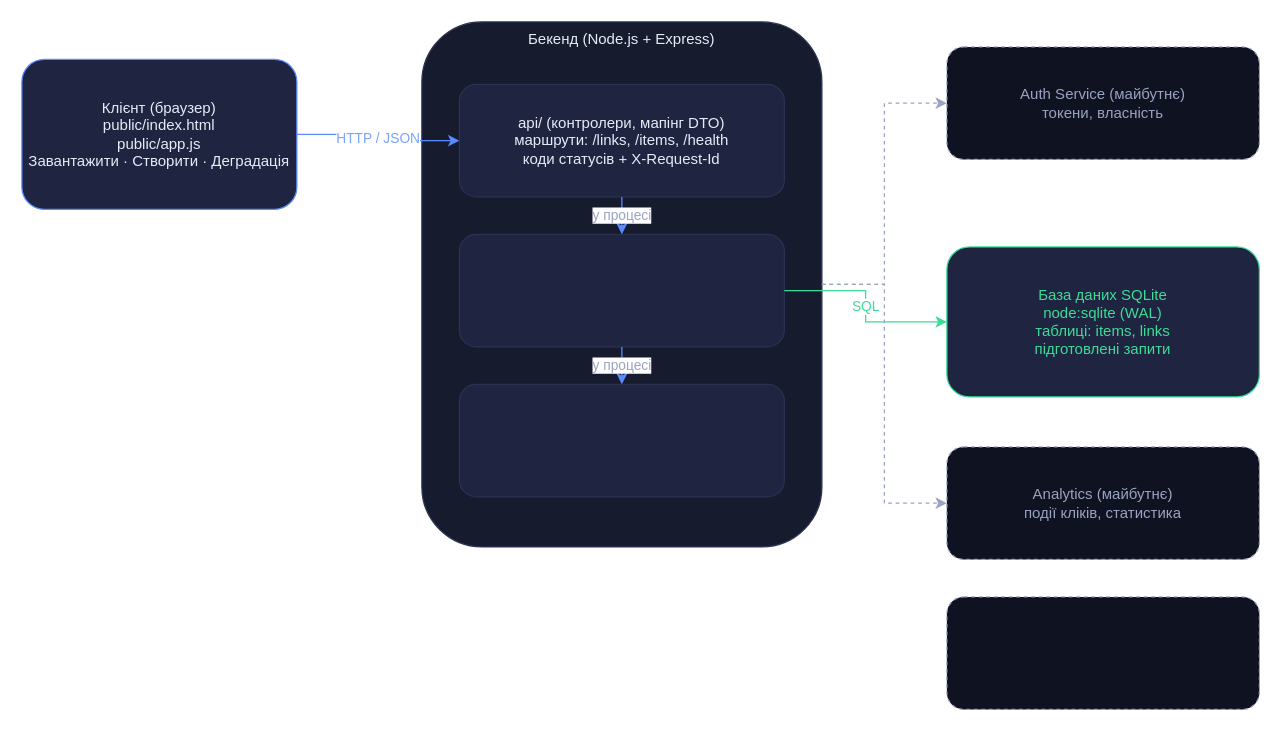
The diagram is 1281 pixels wide and 731 high, and some of its shapes have lost their labels. The shapes that lost their labels are listed below. From the top down, each one's centre as x and y in pixels, then its label:
[621,290]: service/ (сценарії) валідація, генерація slug мапінг DTO ↔ домен
[621,440]: domain/ (сутності + інваріанти) Link, Item тут живуть правила валідації
[1102,652]: Notifications (майбутнє) email / webhooks
